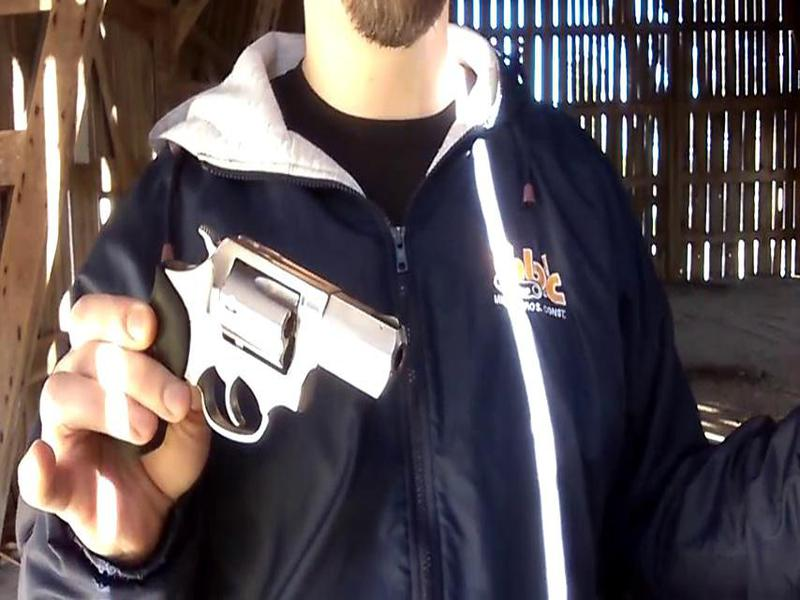Revolver: (76, 201, 427, 483)
